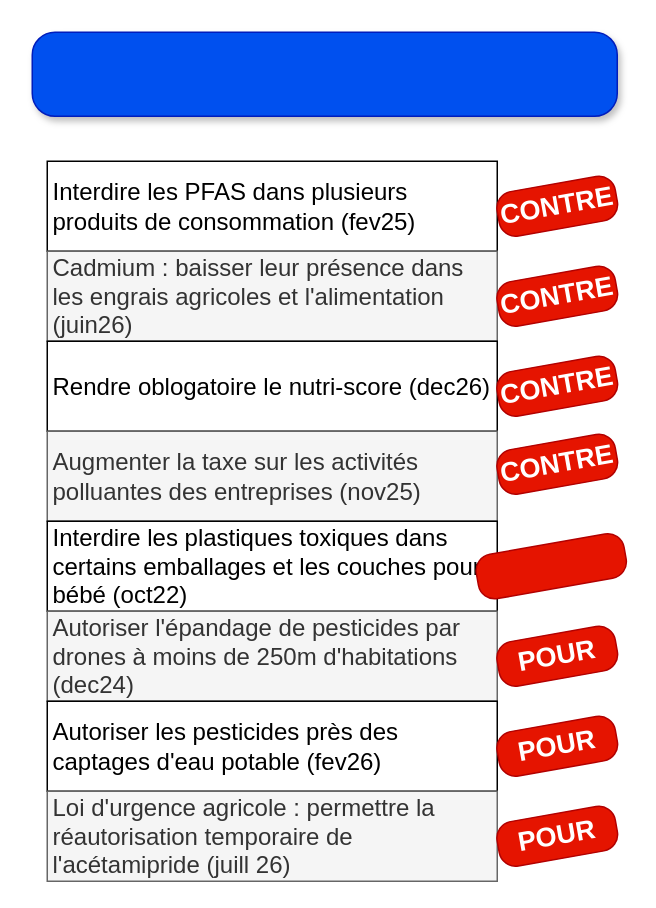
The diagram is 656 pixels wide and 908 high, and some of its shapes have lost their labels. The centre of each missing label's shape, as x and y in pixels:
"ABSTENTION" belongs at point 550,566.
"SANTE POLLUTIONS extreme droite : les produits toxiques sont maintenus" belongs at point 325,76.
